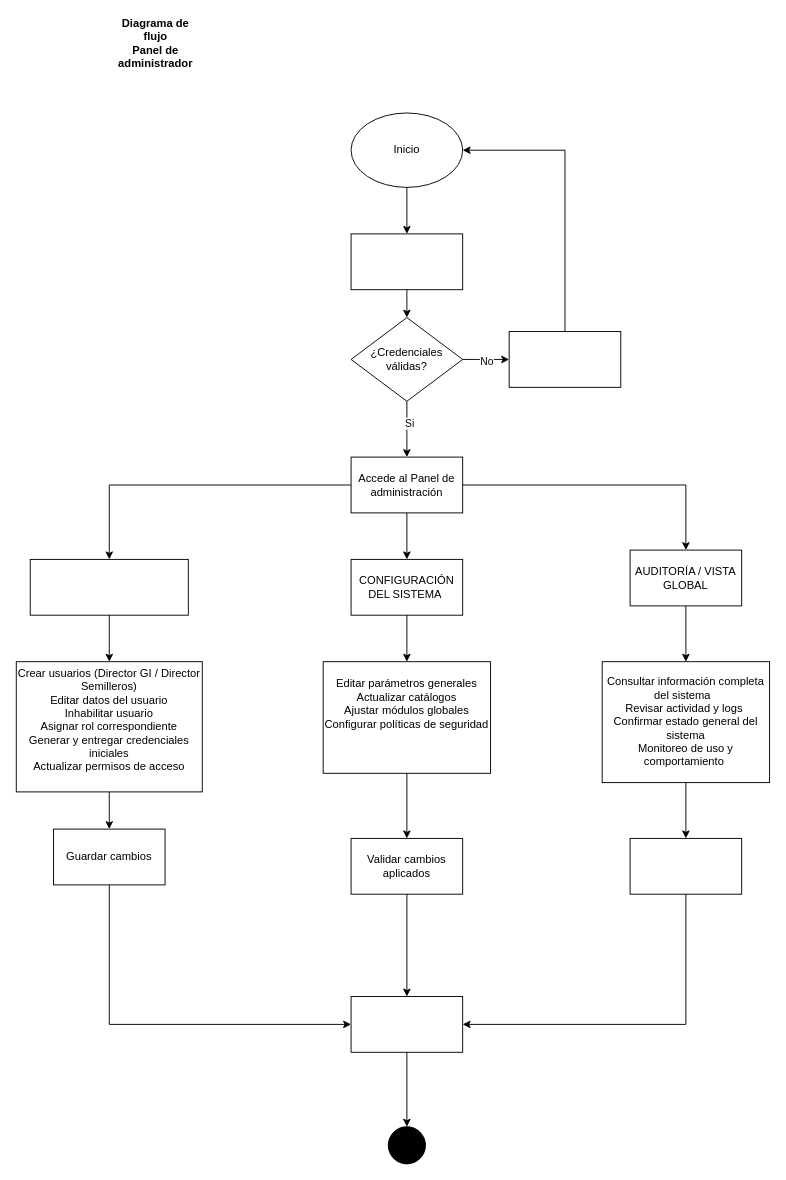
The diagram is 786 pixels wide and 1180 high, and some of its shapes have lost their labels. The box of each missing label's shape, as (x1, y1, x2, y2) in pixels:
Acceso denegado: (508, 331, 621, 387)
Cerrar sesión: (350, 996, 463, 1052)
GESTIONAR USUARIOS: (29, 558, 188, 615)
Iniciar sesión: (350, 233, 463, 290)
Validación: (629, 837, 742, 894)
